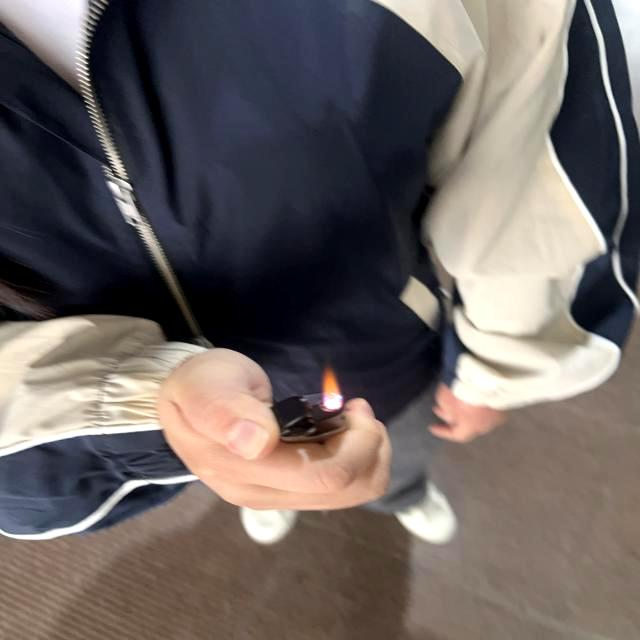fire: (318, 368, 346, 402)
